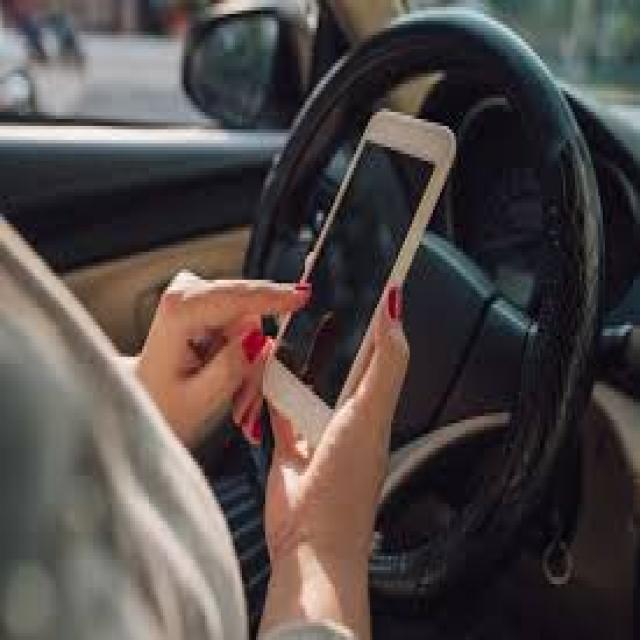Cellphone_texting: (244, 91, 461, 542)
